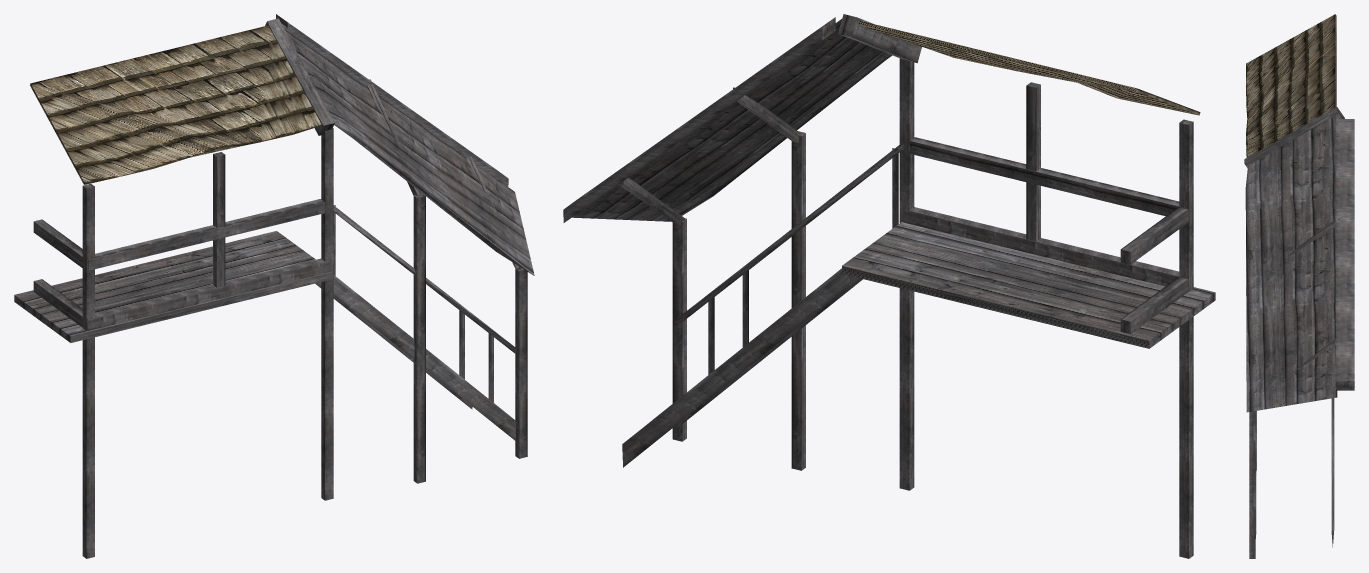
The model's file is v3_stairs_LOD.dae.
3 views of the same model, side by side, from view 1: azimuth 30°, elevation 25°; view 2: azimuth 150°, elevation 25°; view 3: azimuth 270°, elevation 25° (orthographic). The views are drawn at different scales.
Parts seen in each view (by area): view 1: woodPlanks, DefaultLib2.roof_01; view 2: woodPlanks, DefaultLib2.roof_01; view 3: woodPlanks, DefaultLib2.roof_01.
Part boxes in pixels (bbox=[...]): woodPlanks: bbox=[14, 14, 534, 558]; DefaultLib2.roof_01: bbox=[30, 25, 321, 184]; woodPlanks: bbox=[563, 14, 1215, 558]; DefaultLib2.roof_01: bbox=[857, 20, 1200, 115]; woodPlanks: bbox=[1244, 107, 1354, 558]; DefaultLib2.roof_01: bbox=[1246, 14, 1336, 157].
Bounding box in the file's own units: 5 × 4.28 × 1.16.
